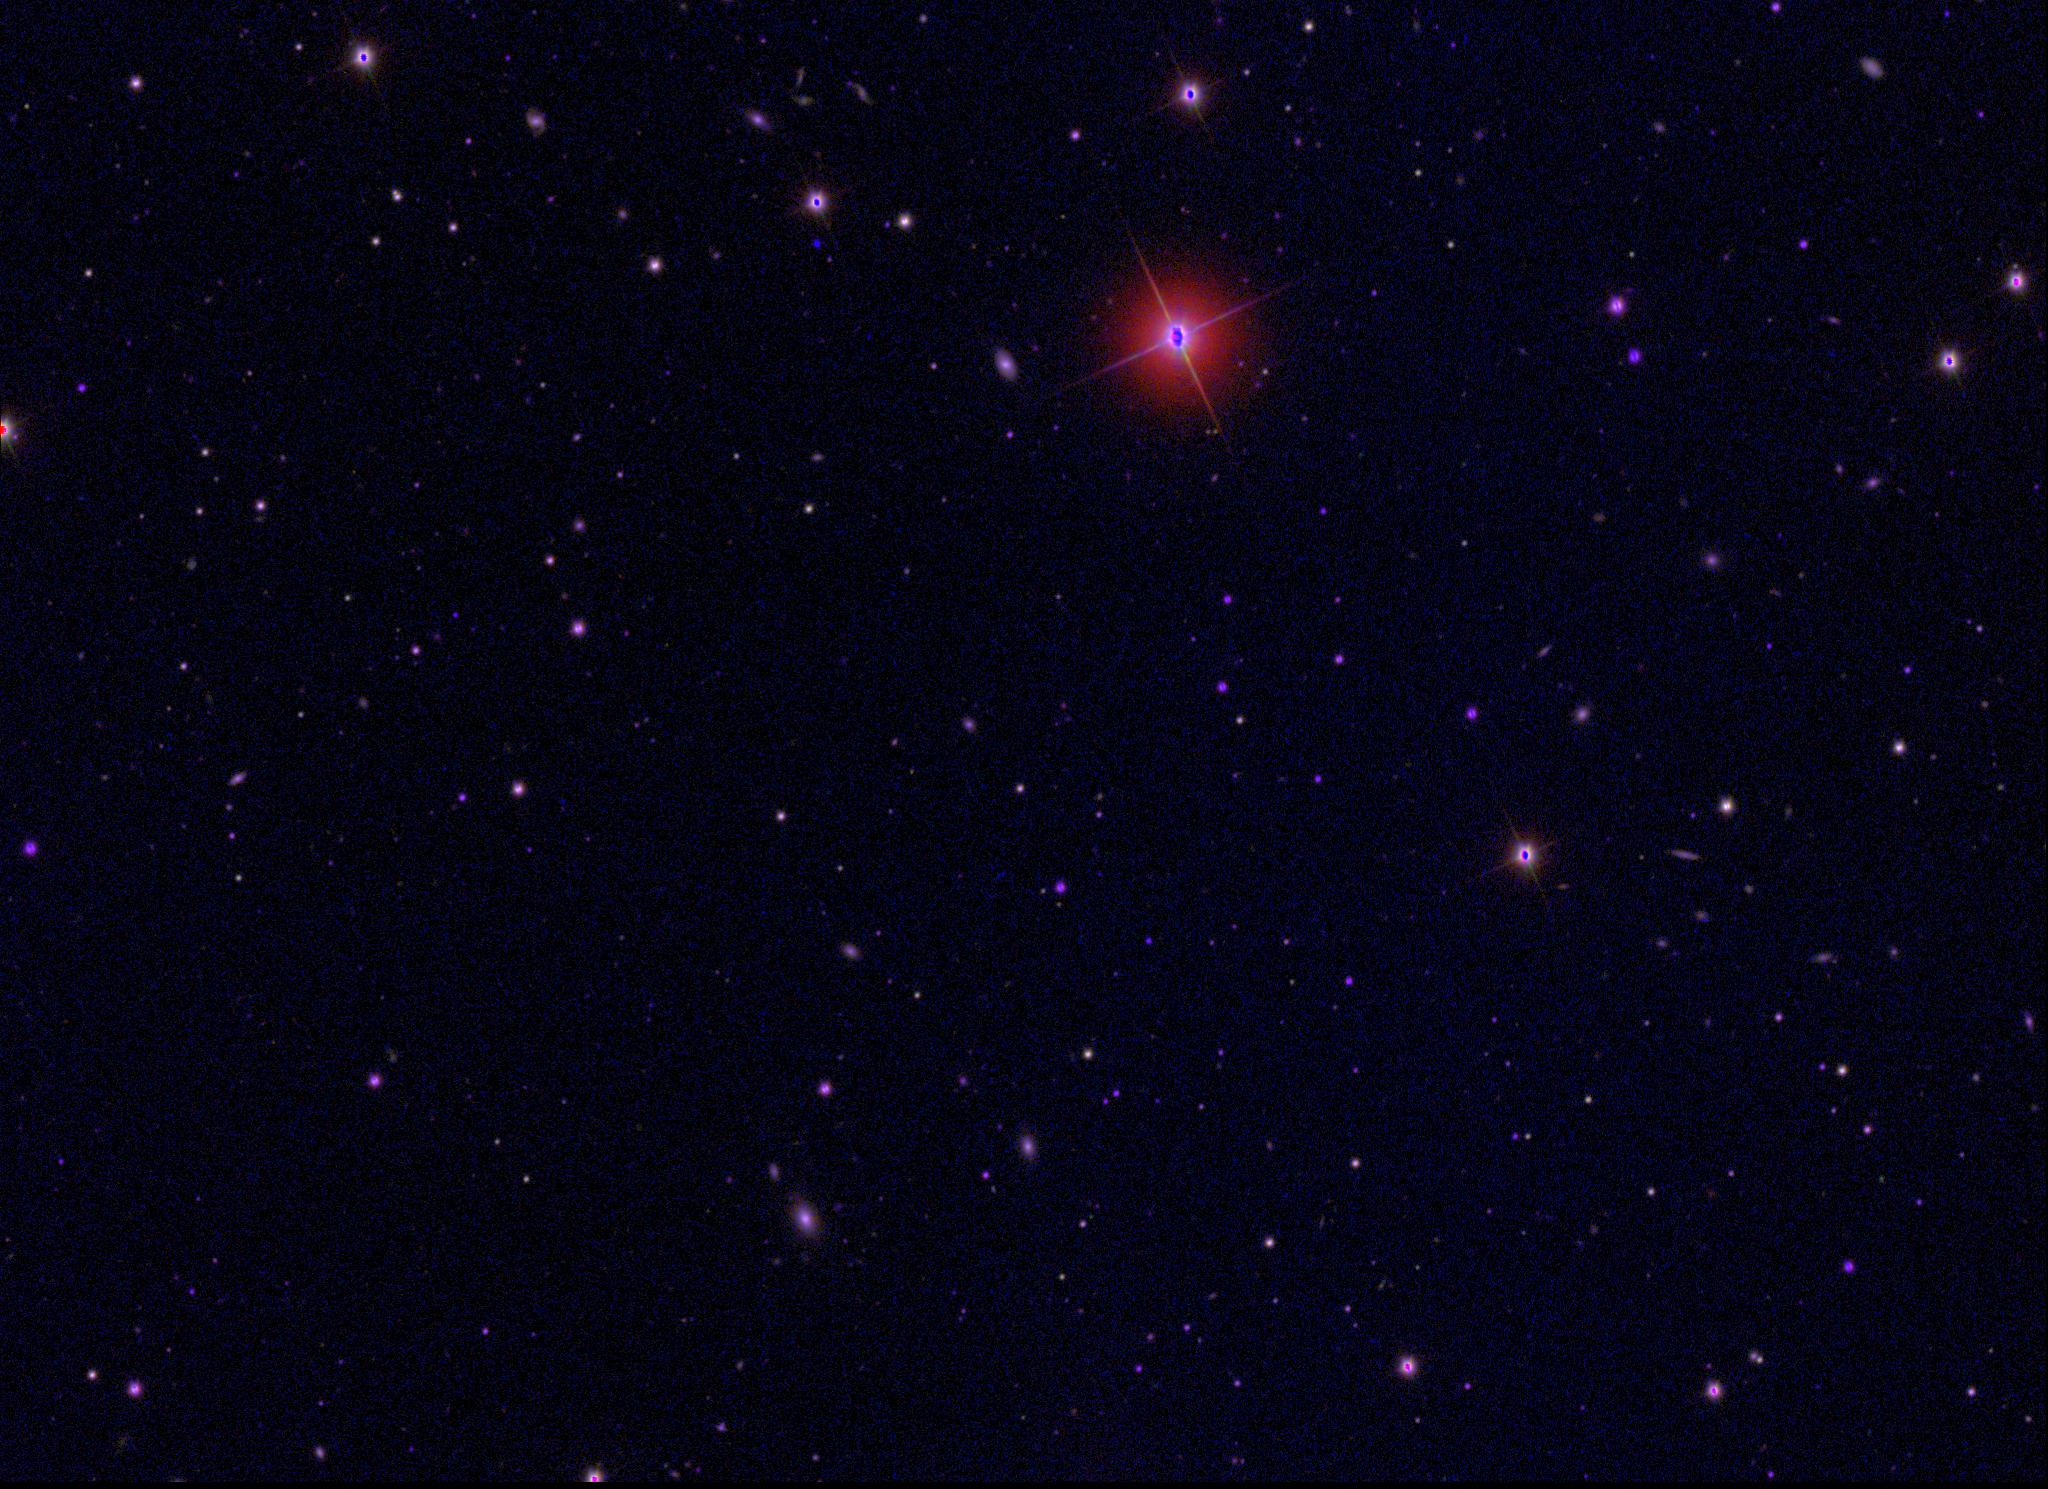L: (809, 237, 824, 251)
